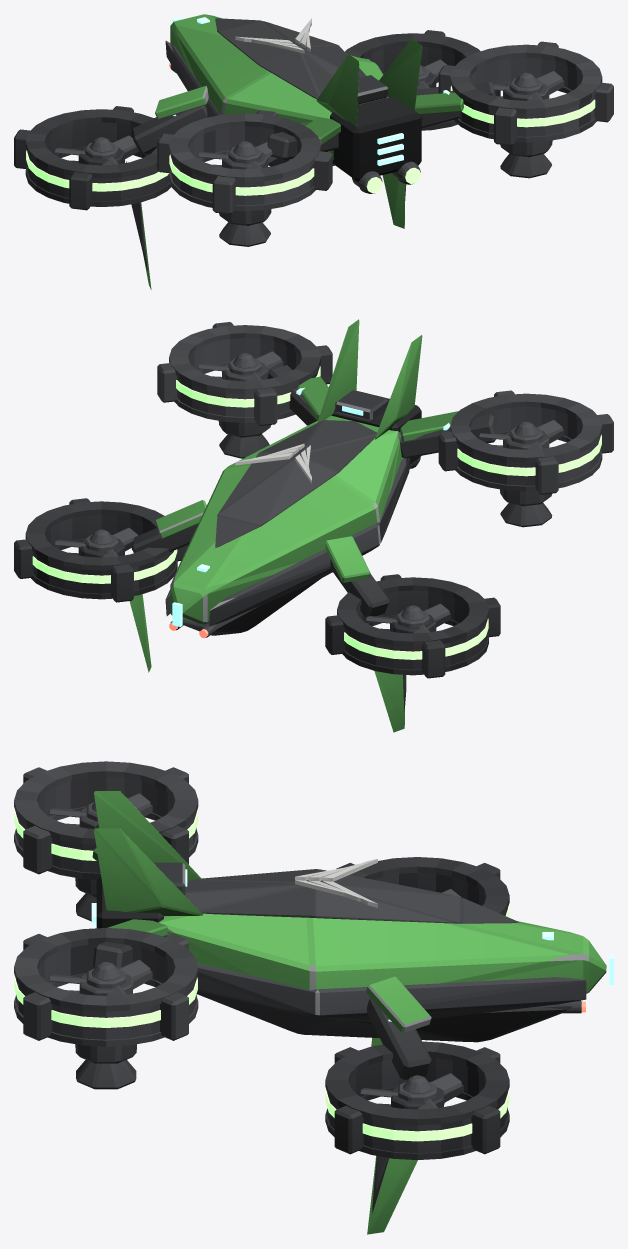
File: heatsinkDroneVolt.f1825d10.glb
3 views of the same model, one above another, from view 1: azimuth 30°, elevation 25°; view 2: azimuth 150°, elevation 25°; view 3: azimuth 270°, elevation 25° (orthographic). The views are drawn at different scales.
Visible parts, largest first — view 1: Volt_body, fin_L, fin_R, rotor_FL, rotor_RR, rotor_RL, gear_R, gear_L, nozzle_L, nozzle_R, rotor_FR; view 2: Volt_body, fin_L, fin_R, gear_L, rotor_RR, rotor_FL, rotor_FR, rotor_RL, gear_R; view 3: Volt_body, fin_R, fin_L, gear_R, rotor_RR, rotor_FR, rotor_RL.
Part boxes in pixels (<box>): Volt_body: <box>14,14,613,246</box>; fin_L: <box>316,54,359,125</box>; fin_R: <box>379,38,422,111</box>; rotor_FL: <box>54,135,136,165</box>; rotor_RR: <box>493,71,563,100</box>; rotor_RL: <box>198,141,272,169</box>; gear_R: <box>382,173,406,228</box>; gear_L: <box>126,161,151,289</box>; nozzle_L: <box>352,171,382,193</box>; nozzle_R: <box>392,161,420,184</box>; rotor_FR: <box>383,59,446,88</box>; Volt_body: <box>14,322,613,678</box>; fin_L: <box>374,335,422,439</box>; fin_R: <box>317,319,359,422</box>; gear_L: <box>374,671,406,732</box>; rotor_RR: <box>197,351,281,381</box>; rotor_FL: <box>365,603,449,633</box>; rotor_FR: <box>54,527,137,557</box>; rotor_RL: <box>479,420,563,449</box>; gear_R: <box>129,594,151,672</box>; Volt_body: <box>14,761,613,1159</box>; fin_R: <box>94,828,202,915</box>; fin_L: <box>94,791,201,881</box>; gear_R: <box>367,1103,444,1234</box>; rotor_RR: <box>49,960,150,995</box>; rotor_FR: <box>360,1073,462,1109</box>; rotor_RL: <box>49,793,150,821</box>.
Size of the model in its own units: 5.49 by 3.42 by 5.31.
